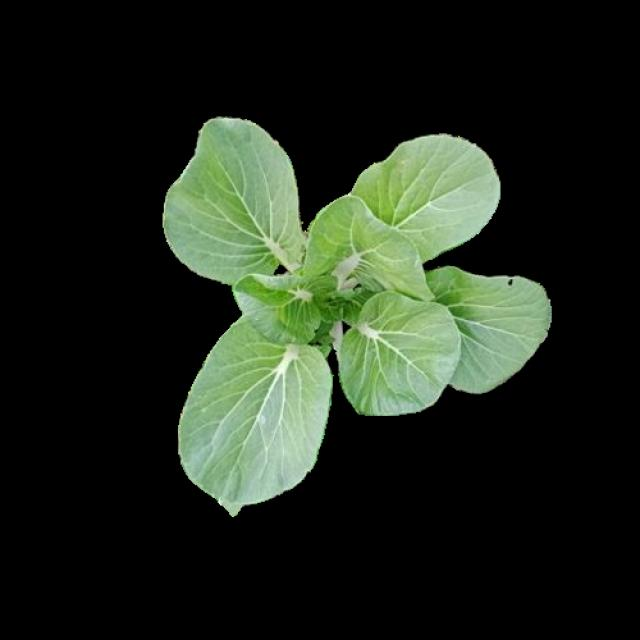healthy: (165, 119, 557, 517)
not-mature: (160, 115, 552, 513)
